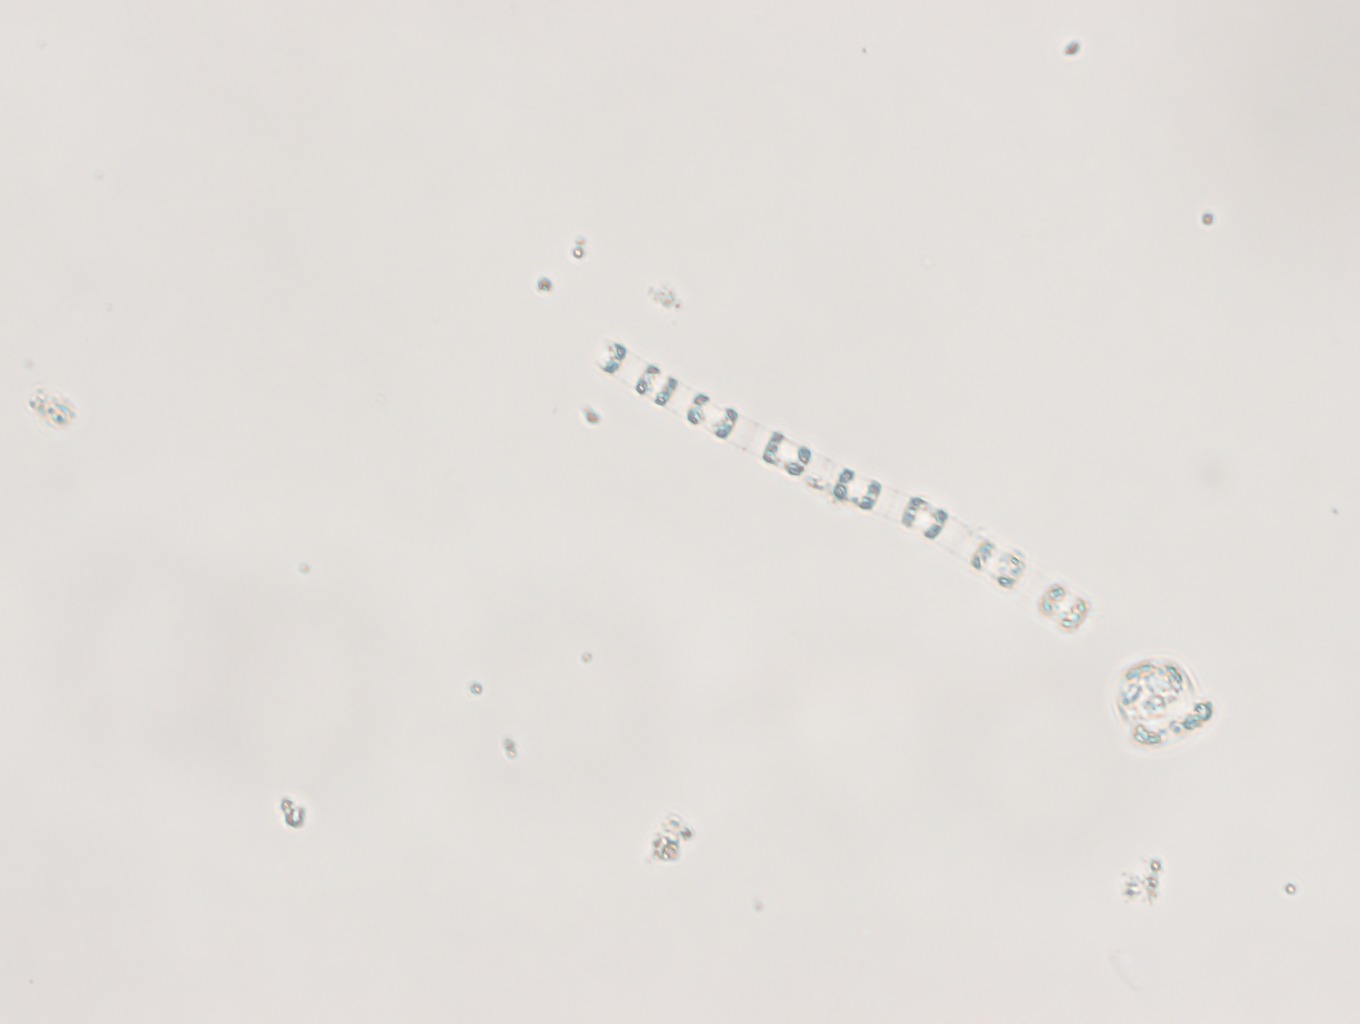skeletonema: (592, 341, 1092, 634)
